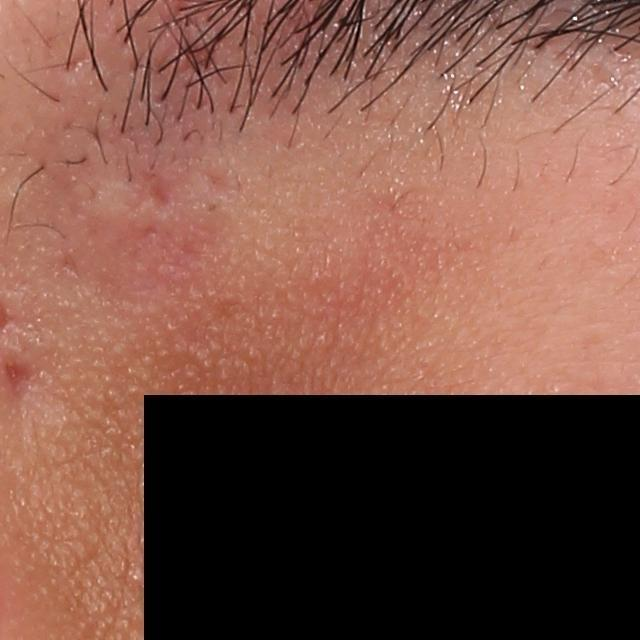atrophic_scar: (194, 163, 245, 204), (2, 363, 31, 402)
hypertrophic_scar: (76, 170, 165, 231)
